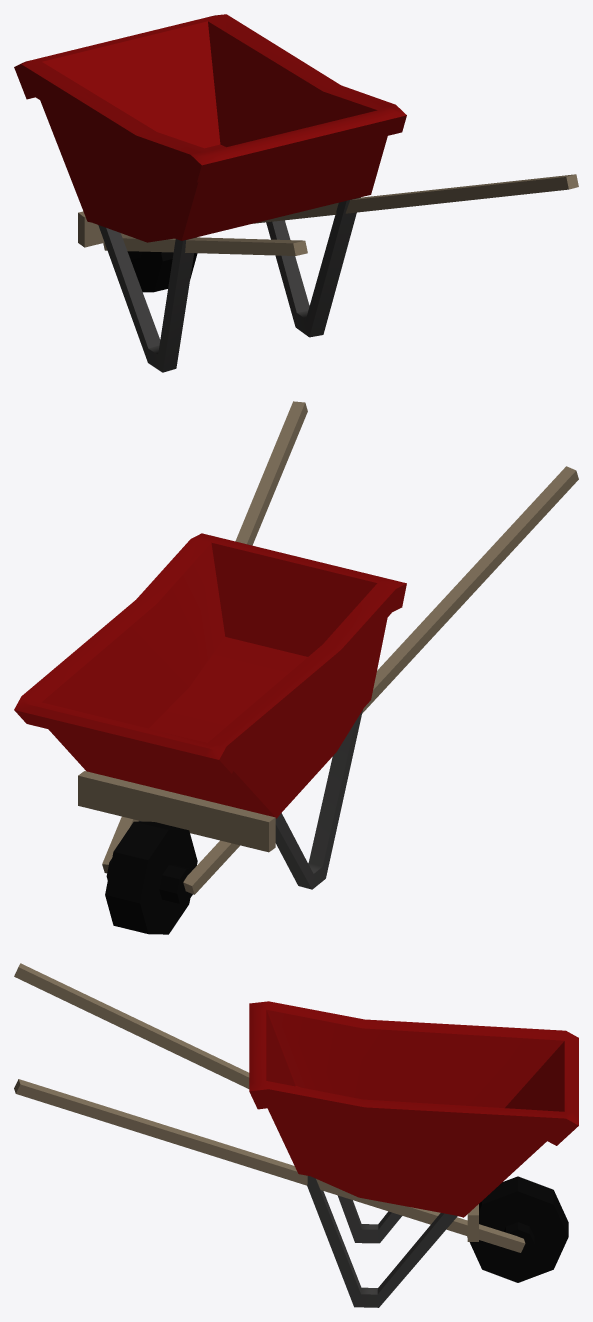
Rendered from WheelBarrowcomplete.fbx.
The picture shows the model from 3 angles, top to bottom: view 1: azimuth 30°, elevation 25°; view 2: azimuth 150°, elevation 25°; view 3: azimuth 270°, elevation 25°; orthographic projection. The views are drawn at different scales.
Visible parts, largest first — view 1: pCube5; view 2: pCube5; view 3: pCube5.
Boxes of the visible parts, box(x1,y1,x2,y2) form: pCube5: box(14, 14, 578, 372); pCube5: box(14, 401, 578, 934); pCube5: box(14, 963, 578, 1307).
Bounding box in the file's own units: 25.1 × 24.37 × 49.41.
